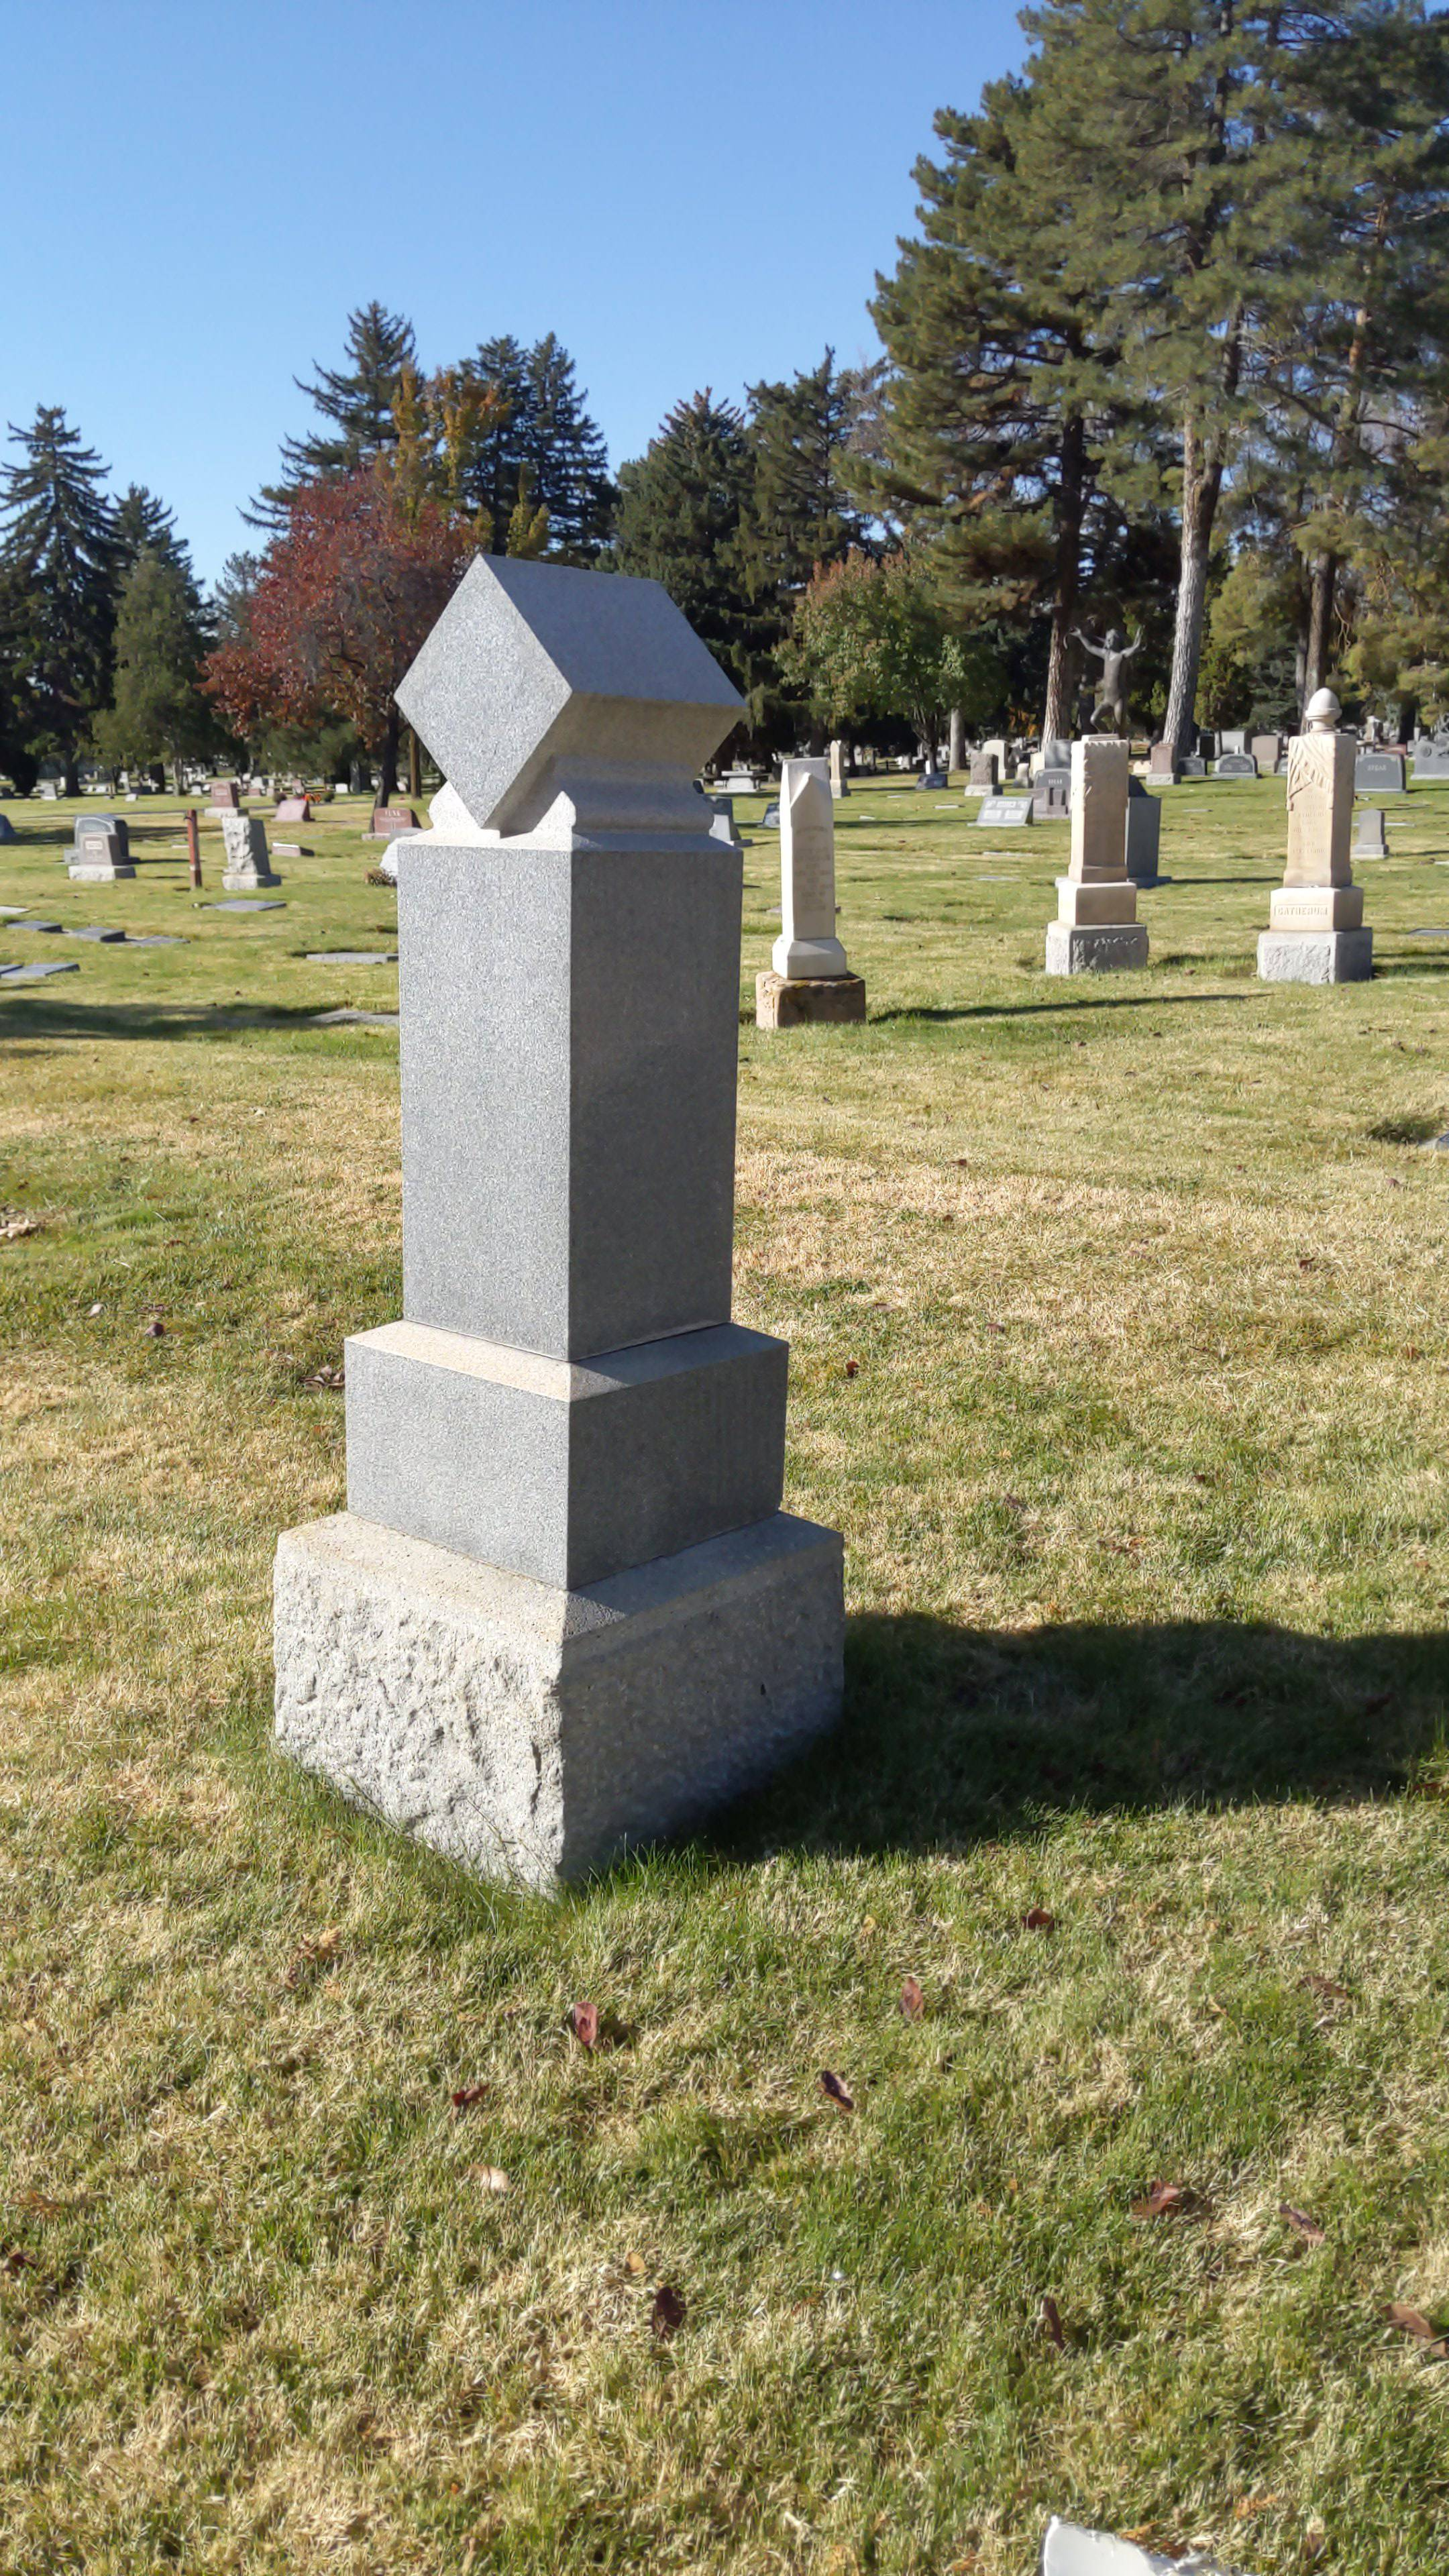obelisk: (345, 556, 782, 1585)
